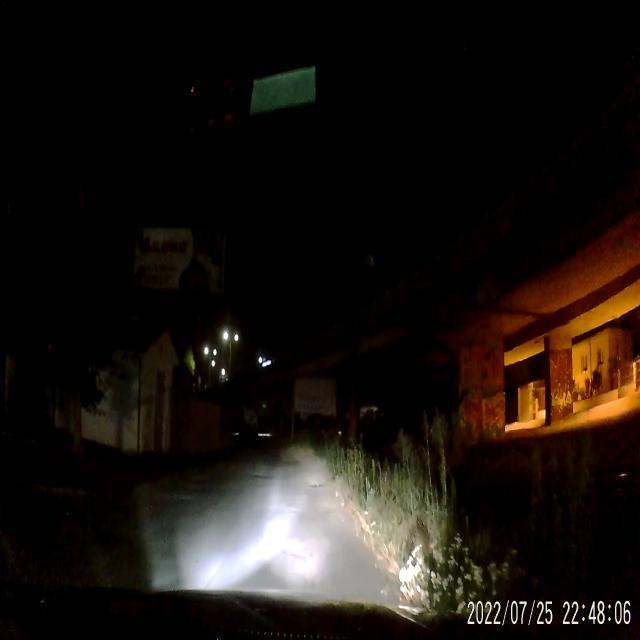Pothole: (310, 478, 324, 491)
